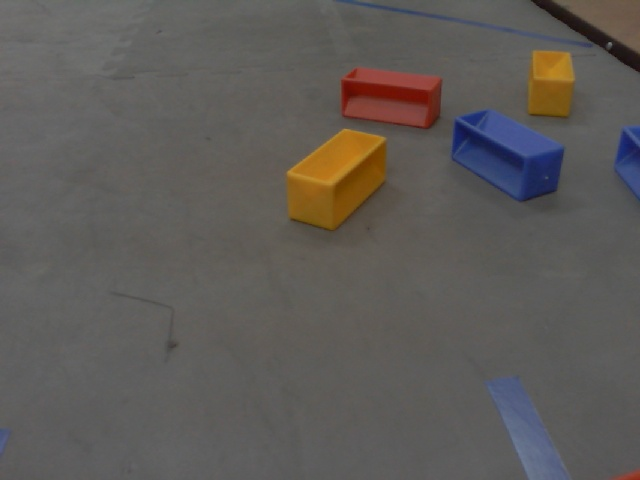BlueSample: (447, 105, 563, 206), (610, 123, 640, 200)
RedSample: (337, 65, 443, 129)
YellowSample: (282, 127, 391, 234), (524, 44, 577, 121)
